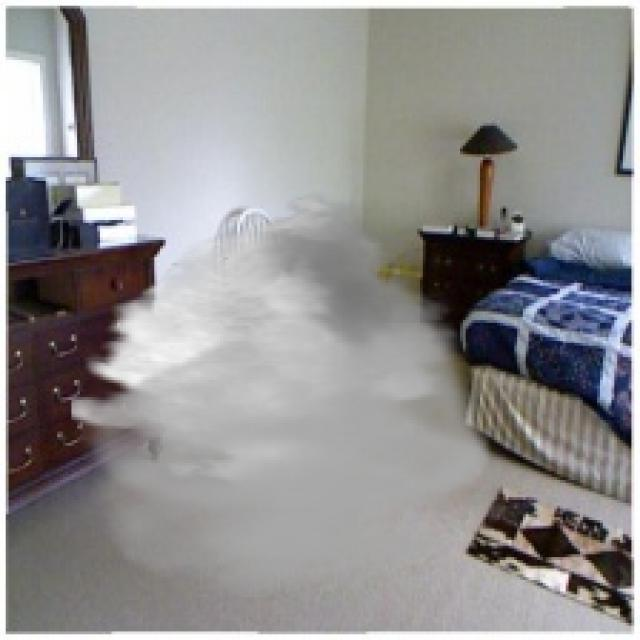Smoke: (72, 192, 497, 597)
